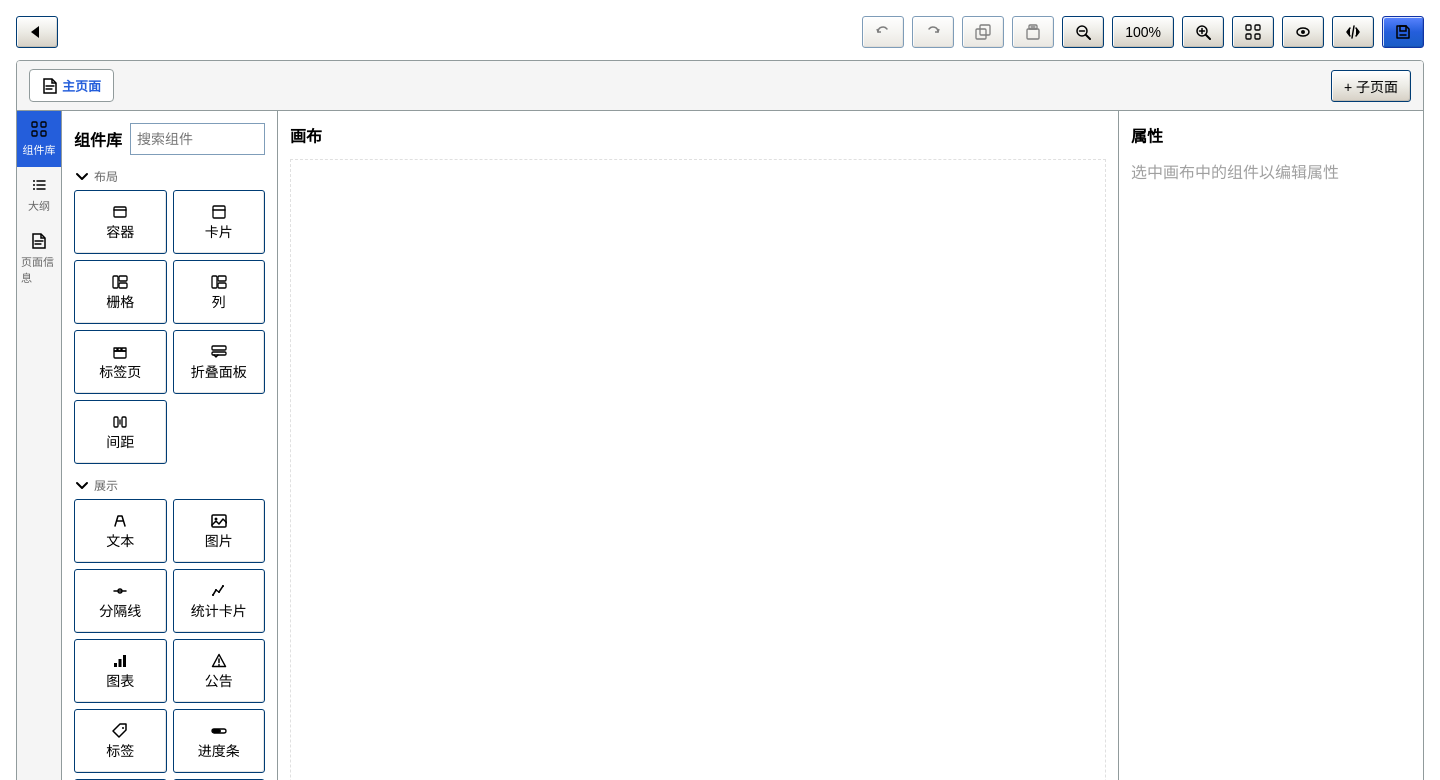
WPageDesigner › 顶部 tabs 默认显示主页面且支持添加子页面
This screenshot has width=1440, height=780.
Expected: the element showing "主页面 + 子页面" is shown, [17,61,1423,111]
Click the button "+ 子页面".
click(1371, 86)  # box [1331,70,1411,102]
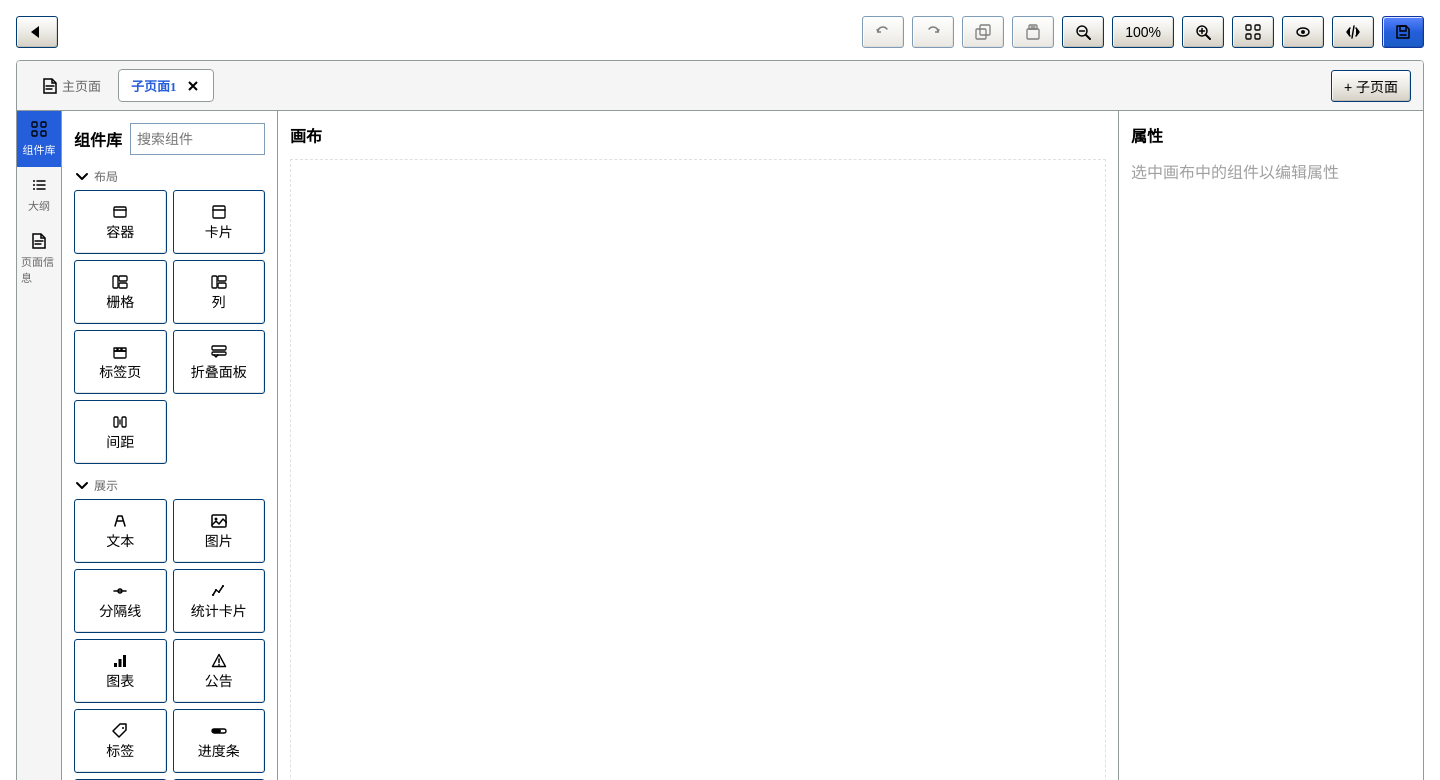
Result: the text "子页面1" is shown at [131,76,176,95]
